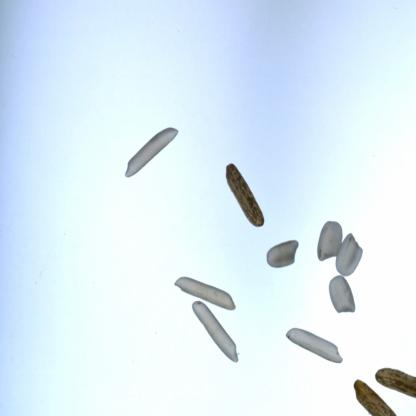Full: (110, 107, 178, 190), (207, 149, 270, 226), (180, 286, 236, 364), (342, 365, 402, 416), (283, 324, 348, 366), (164, 272, 238, 306), (353, 360, 416, 398), (254, 224, 300, 267), (321, 273, 360, 317), (332, 229, 365, 279), (311, 208, 340, 256)
